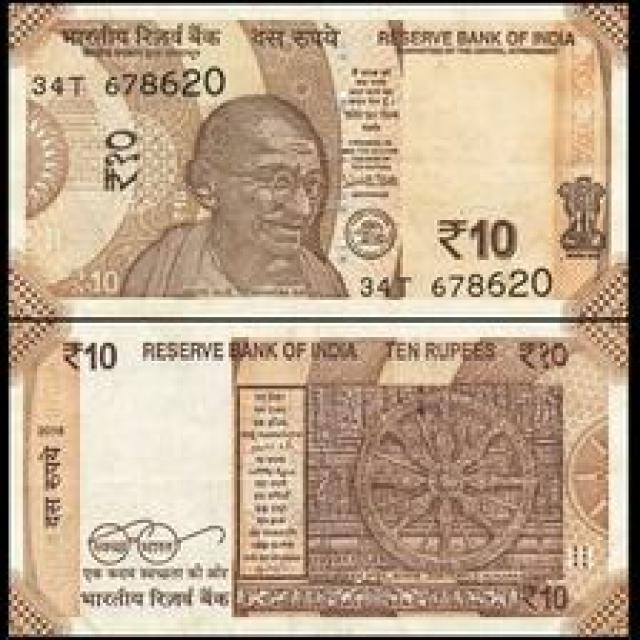banknote: (2, 322, 632, 637), (10, 2, 628, 317)
